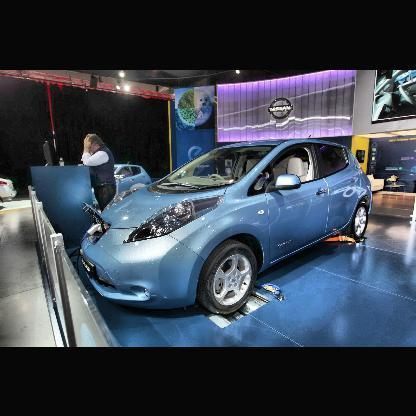Nissan Leaf Hatchback 2012: (80, 140, 374, 319)
